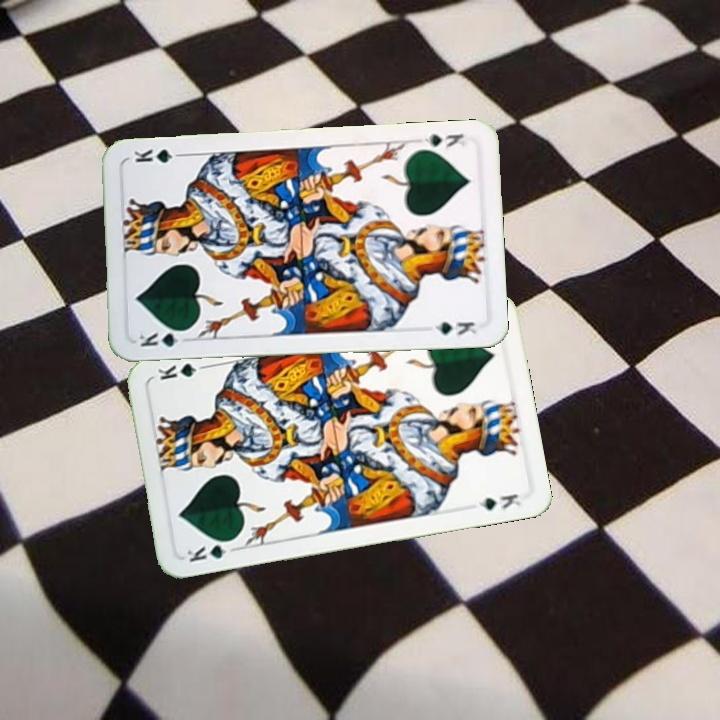GK: (182, 535, 238, 565), (135, 326, 192, 350), (420, 130, 468, 151)
